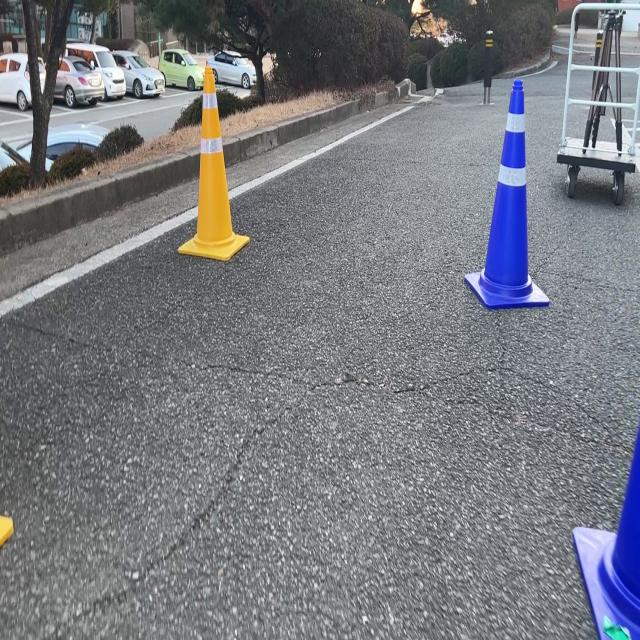cone: (468, 76, 536, 306), (172, 56, 236, 259)
